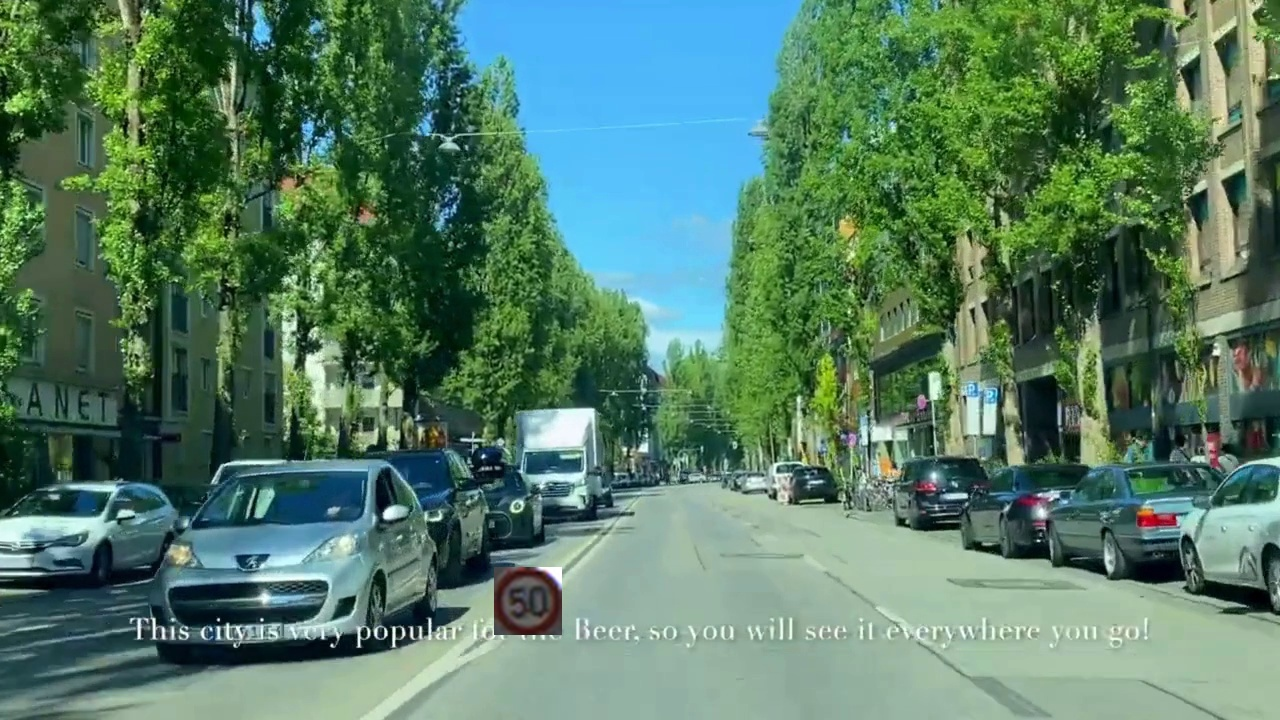Speed 50: (494, 567, 562, 635)
